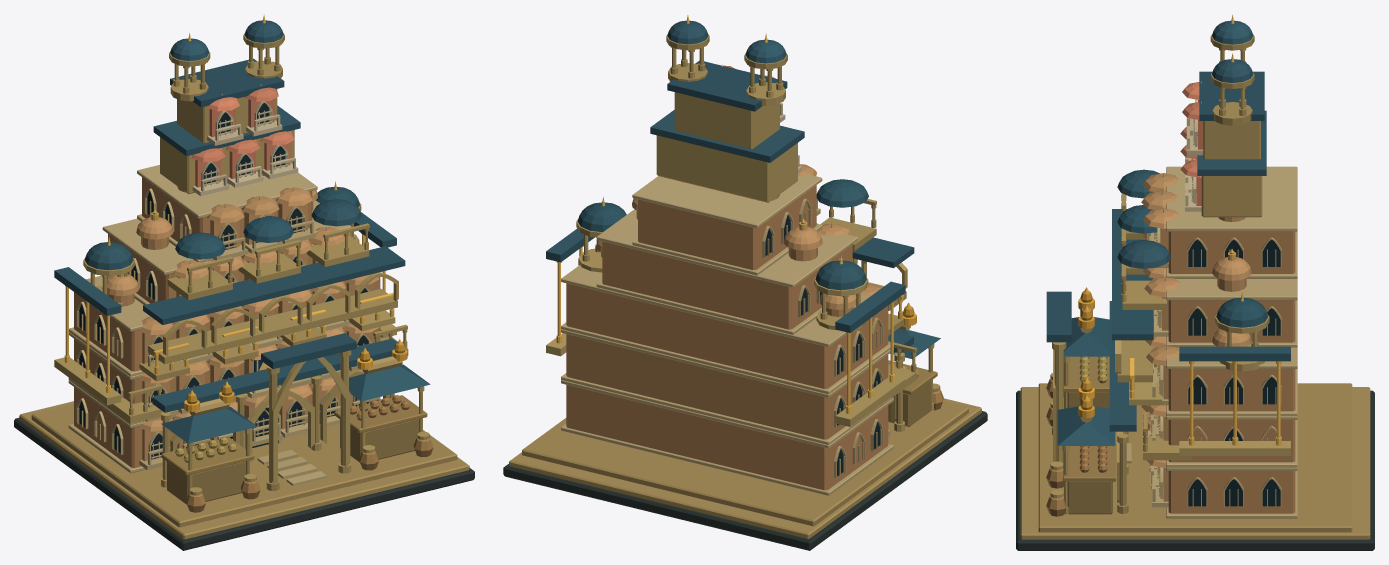
The picture shows the model from 3 angles, left to right: view 1: azimuth 30°, elevation 25°; view 2: azimuth 150°, elevation 25°; view 3: azimuth 270°, elevation 25°; orthographic projection. The views are drawn at different scales.
Visible parts, largest first — view 1: market_L13_0, market_L13_1; view 2: market_L13_0, market_L13_1; view 3: market_L13_0, market_L13_1.
Boxes of the visible parts, x1,y1,x2,y2 form: market_L13_0: (14, 20, 474, 550); market_L13_1: (64, 14, 407, 411); market_L13_0: (503, 20, 987, 550); market_L13_1: (556, 15, 916, 413); market_L13_0: (1016, 20, 1374, 550); market_L13_1: (1078, 15, 1281, 445).
Size of the model in its own units: 5.6 by 7.63 by 5.6.
